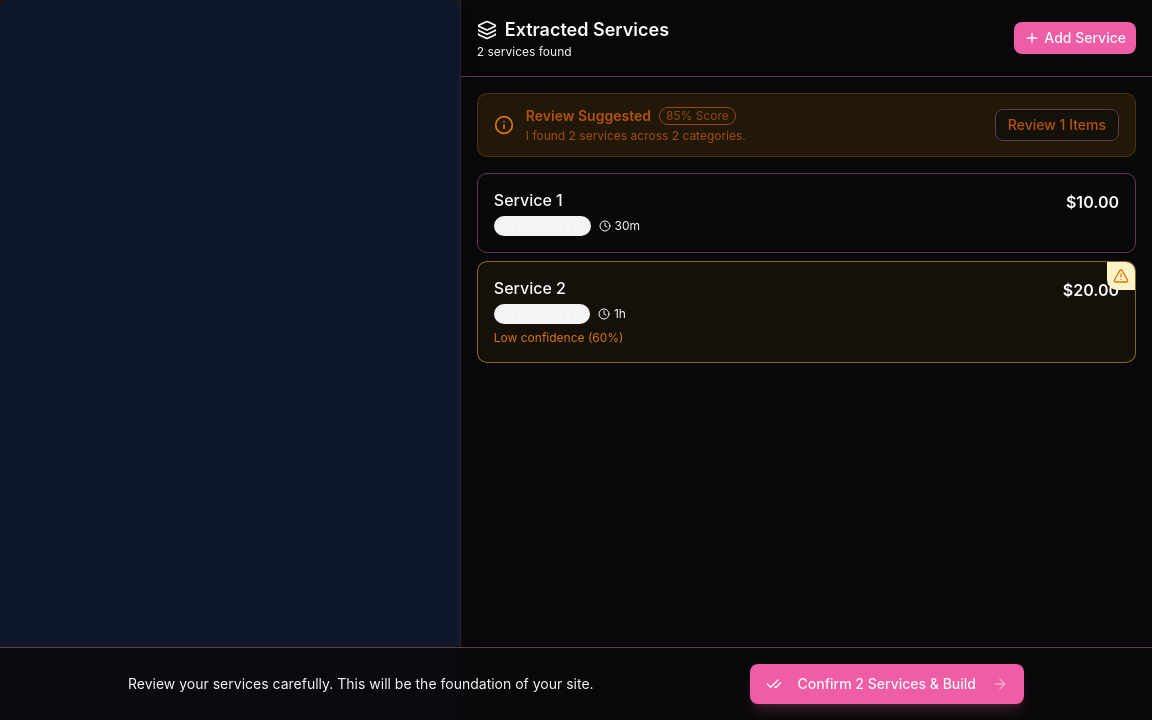
Scenario: SmartLedger Integration › toggles edit mode when clicking a service
The width and height of the screenshot is (1152, 720).
# Click service to edit
Click the heading "Service 1" at x=528, y=200, box [494, 190, 563, 210]
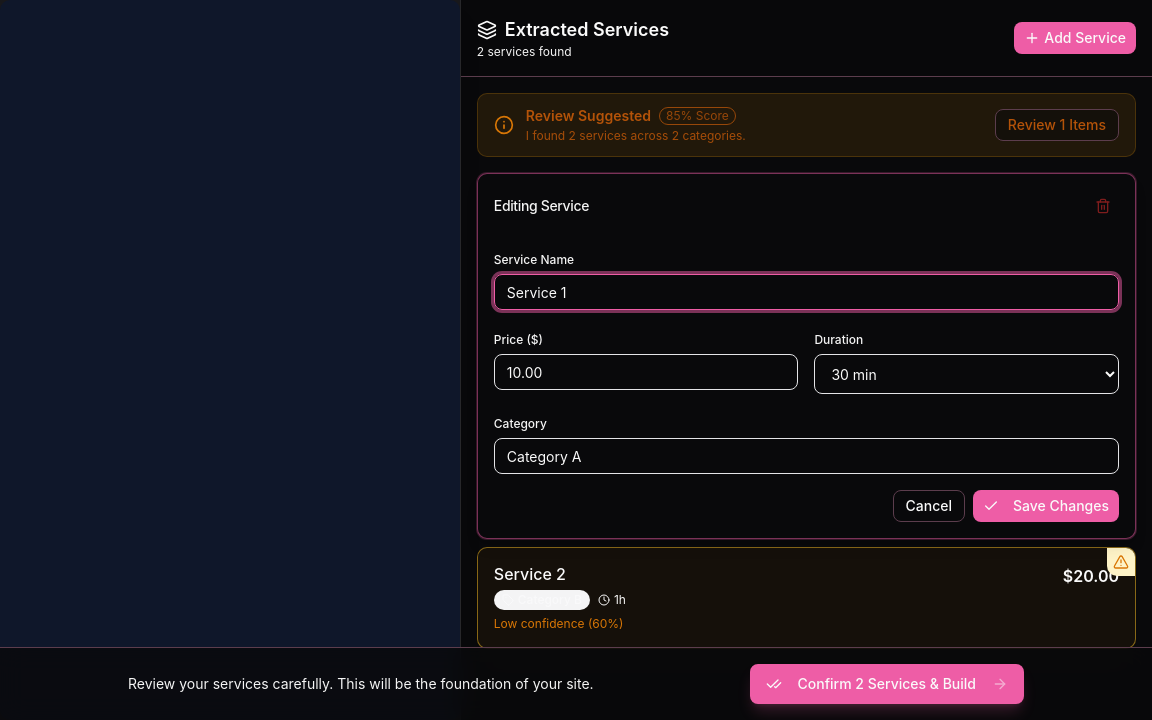
Now the field showing "Service 1" below "Service Name" is shown, box [494, 274, 1119, 310]
Now the button "Save Changes" is shown, box [973, 490, 1119, 522]
